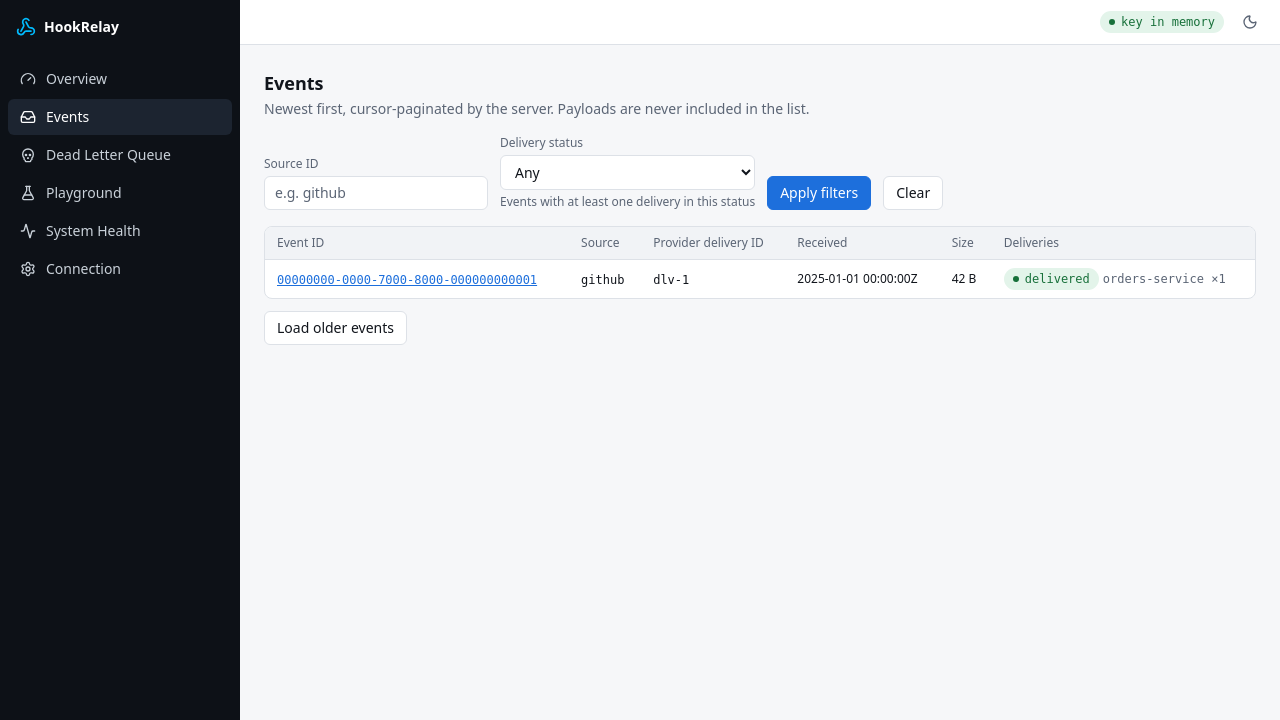
events explorer › paginates with the server cursor and does not refetch earlier pages
This screenshot has width=1280, height=720.
What coordinates should you click on to do the following:
click the button "Load older events"
I would click on:
 (336, 328)
Its box is x1=264 y1=311 x2=407 y2=345.
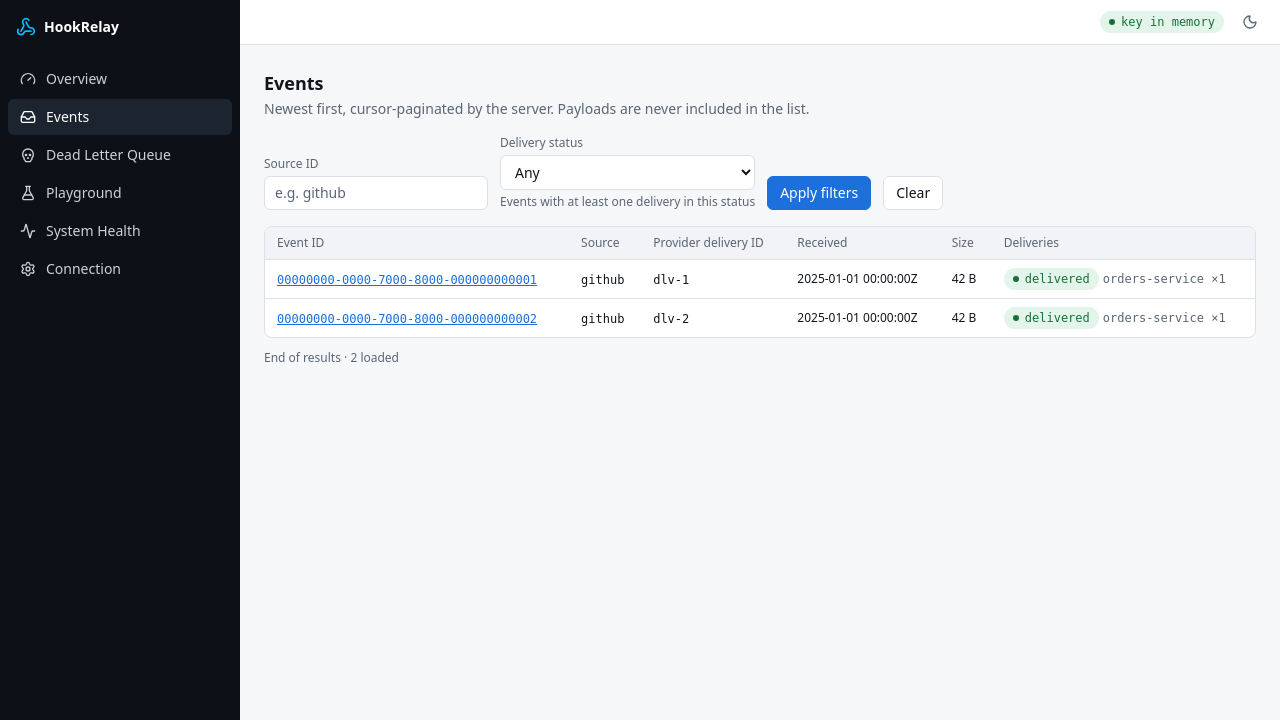
Expected: the text "End of results · 2 loaded" is shown, x1=264 y1=350 x2=399 y2=366
